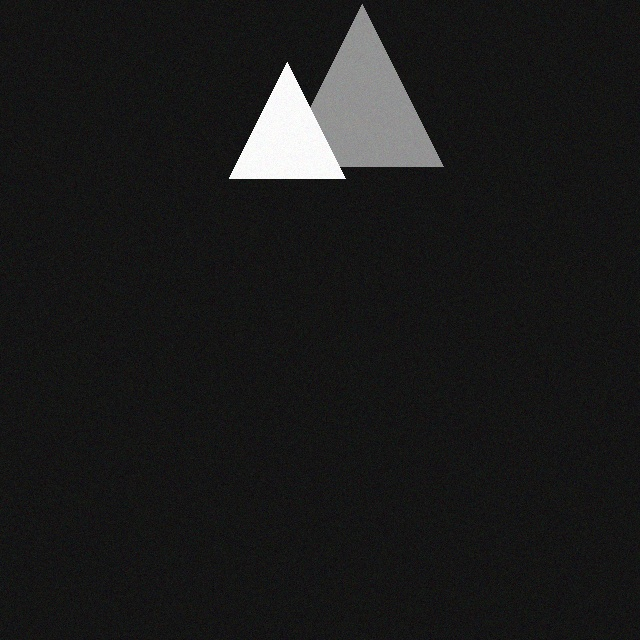triangle: (293, 5, 455, 167), (241, 63, 357, 179)
